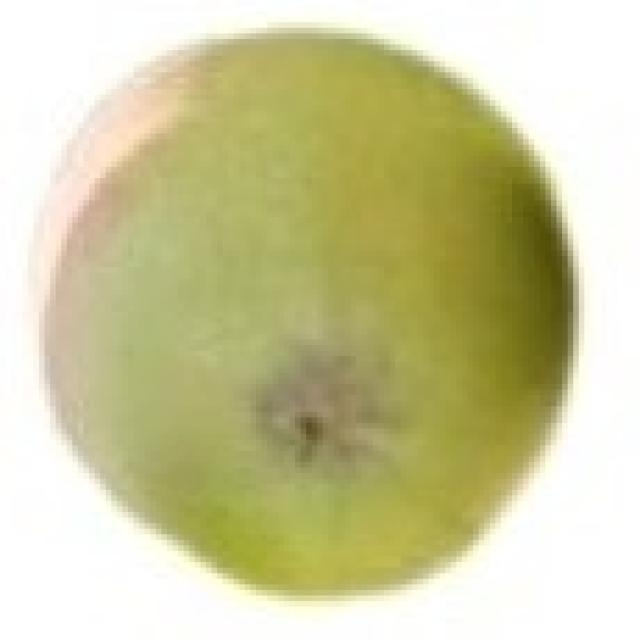50-_ripeness: (33, 22, 586, 599)
